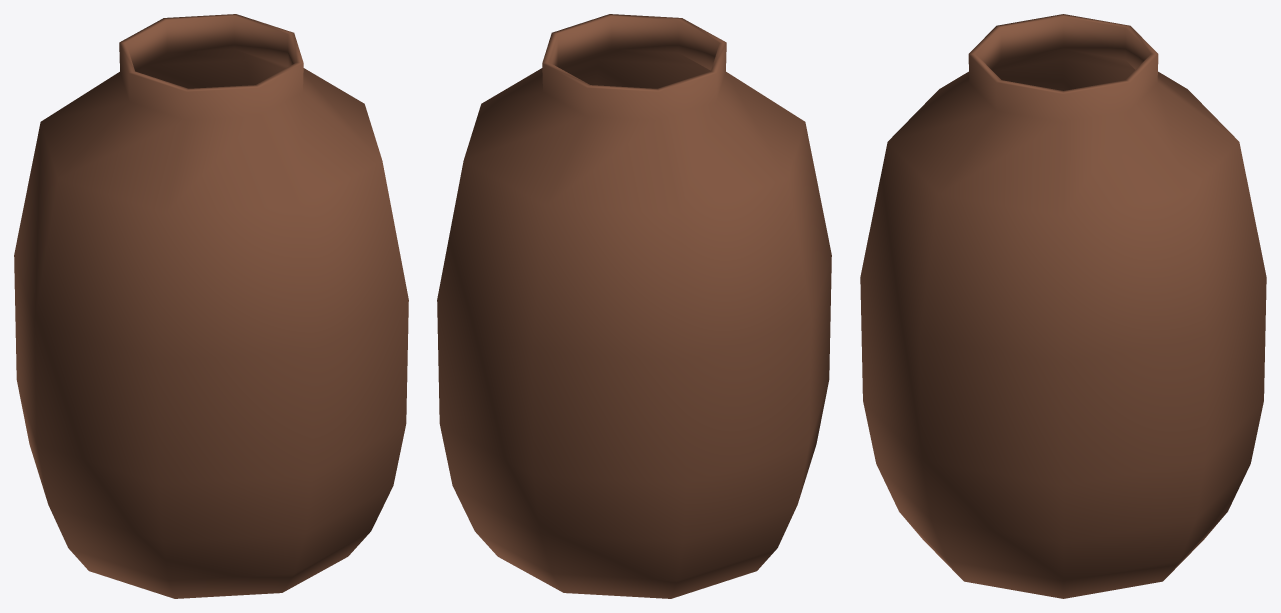
Rendered from Vaso_2.fbx.
3 views of the same model, side by side, from view 1: azimuth 30°, elevation 25°; view 2: azimuth 150°, elevation 25°; view 3: azimuth 270°, elevation 25° (orthographic).
Visible parts, largest first — view 1: Vaso_2; view 2: Vaso_2; view 3: Vaso_2.
Part boxes in pixels (x1,y1,x2,y2): Vaso_2: [14, 14, 408, 598]; Vaso_2: [437, 14, 831, 598]; Vaso_2: [860, 14, 1266, 598].
Size of the model in its own units: 0.2777 by 0.2777 by 0.3758.
